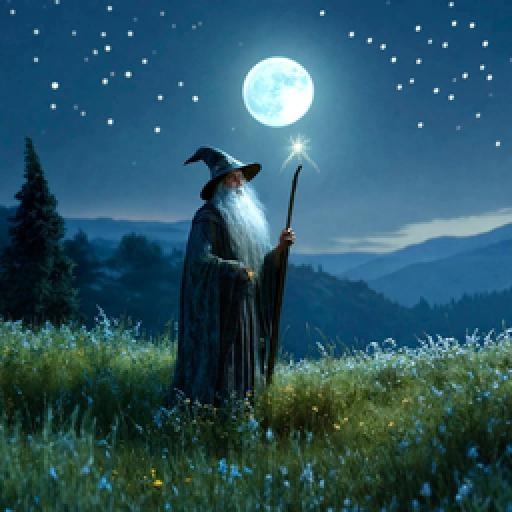trees: (7, 133, 78, 337)
wizards: (174, 131, 299, 414)
